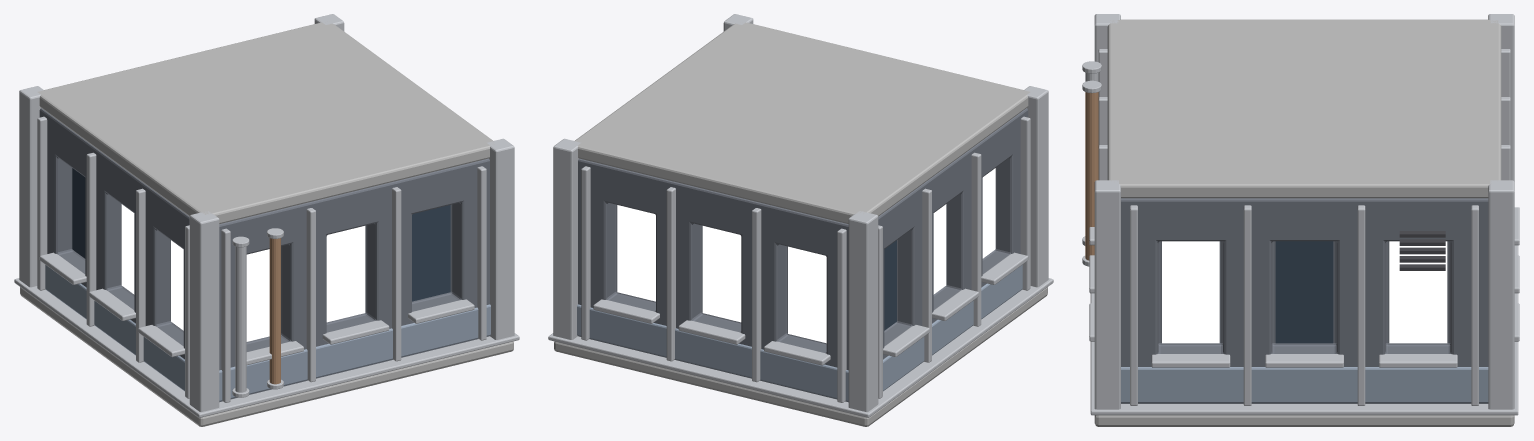
The model's file is office3c.glb.
3 views of the same model, side by side, from view 1: azimuth 30°, elevation 25°; view 2: azimuth 150°, elevation 25°; view 3: azimuth 270°, elevation 25° (orthographic). The views are drawn at different scales.
Visible parts, largest first — view 1: int_ceiling, ext_wall, ext_frames, int_columns, ext_spandrel, ext_panes_lit, int_slab_edge, int_slab, ext_panes_dark, ext_pipe0, ext_pipe1; view 2: int_ceiling, ext_wall, ext_frames, int_columns, ext_panes_lit, ext_spandrel, int_slab_edge, int_slab, ext_panes_dark; view 3: int_ceiling, ext_wall, int_columns, ext_frames, ext_spandrel, ext_panes_lit, ext_panes_dark, int_slab_edge, int_slab, ext_pipe1, ext_vent.
Part boxes in pixels (<box>): int_ceiling: <box>37,21,494,223</box>; ext_wall: <box>39,108,489,402</box>; ext_frames: <box>37,116,486,402</box>; int_columns: <box>19,14,514,411</box>; ext_spandrel: <box>45,265,490,401</box>; ext_panes_lit: <box>121,204,365,341</box>; int_slab_edge: <box>14,278,519,417</box>; int_slab: <box>20,287,513,426</box>; ext_panes_dark: <box>72,168,450,301</box>; ext_pipe0: <box>235,246,246,392</box>; ext_pipe1: <box>269,238,280,384</box>; int_ceiling: <box>575,22,1030,223</box>; ext_wall: <box>578,108,1028,402</box>; ext_frames: <box>581,116,1030,402</box>; int_columns: <box>553,14,1048,411</box>; ext_panes_lit: <box>617,168,995,343</box>; ext_spandrel: <box>577,265,1022,401</box>; int_slab_edge: <box>548,278,1053,417</box>; int_slab: <box>554,287,1047,426</box>; ext_panes_dark: <box>884,240,896,330</box>; int_ceiling: <box>1107,19,1501,198</box>; ext_wall: <box>1121,198,1488,403</box>; int_columns: <box>1094,14,1514,409</box>; ext_frames: <box>1089,49,1519,405</box>; ext_spandrel: <box>1121,367,1488,402</box>; ext_panes_lit: <box>1162,241,1447,343</box>; ext_panes_dark: <box>1275,241,1333,343</box>; int_slab_edge: <box>1090,245,1518,415</box>; int_slab: <box>1094,415,1514,426</box>; ext_pipe1: <box>1085,92,1098,260</box>; ext_vent: <box>1399,231,1445,270</box>.
Size of the model in its own units: 3.28 by 2 by 3.33.
